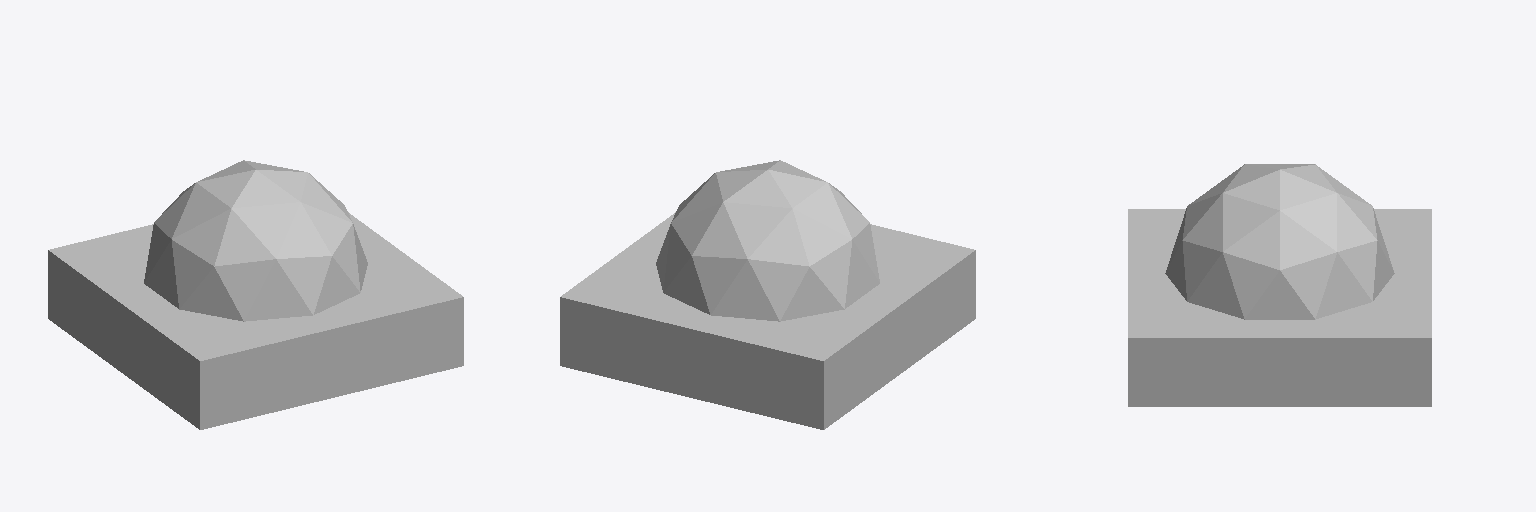
The model's file is BUSH.obj.
3 views of the same model, side by side, from view 1: azimuth 30°, elevation 25°; view 2: azimuth 150°, elevation 25°; view 3: azimuth 270°, elevation 25° (orthographic).
Parts seen in each view (by area): view 1: SHRUB; view 2: SHRUB; view 3: SHRUB.
Boxes of the visible parts, x1=… form: SHRUB: x1=48, y1=160, x2=463, y2=429; SHRUB: x1=560, y1=160, x2=975, y2=429; SHRUB: x1=1128, y1=164, x2=1431, y2=406.
Bounding box in the file's own units: 2 × 1.25 × 2.